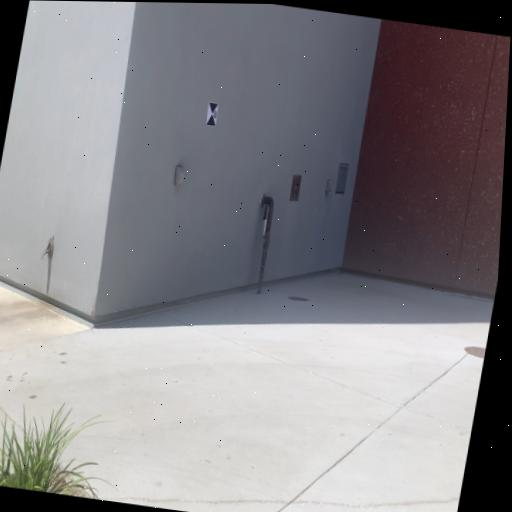target8: (205, 101, 220, 127)
